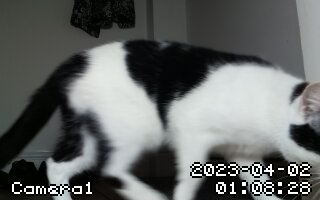bad: (3, 36, 319, 195)
